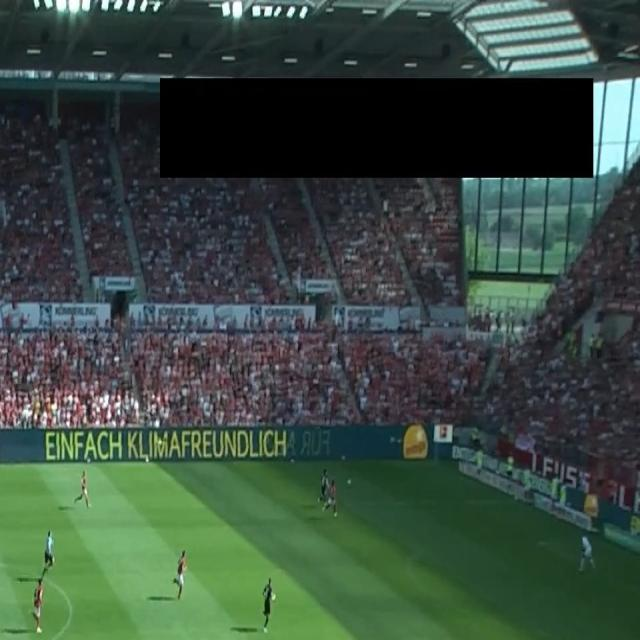ball: (347, 477, 352, 485)
